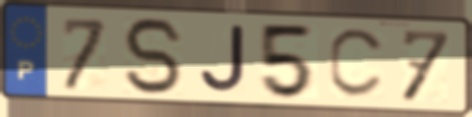5: (257, 21, 322, 102)
7: (397, 27, 453, 105), (61, 17, 110, 92)
C: (326, 26, 389, 102)
J: (197, 23, 247, 96)
S: (120, 15, 188, 98)
